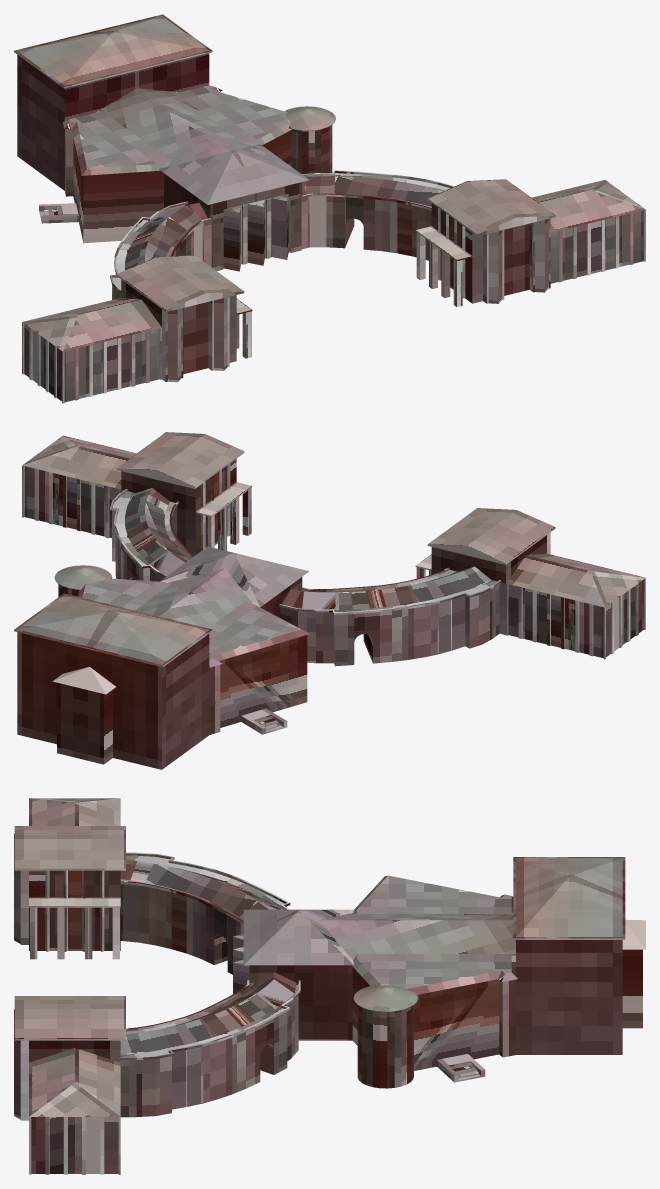
Rendered from palacepratsi_hc.glb.
3 views of the same model, one above another, from view 1: azimuth 30°, elevation 25°; view 2: azimuth 150°, elevation 25°; view 3: azimuth 270°, elevation 25° (orthographic). The views are drawn at different scales.
Visible parts, largest first — view 1: palacepratsi; view 2: palacepratsi; view 3: palacepratsi.
Boxes of the visible parts, <box> form: palacepratsi: <box>14,14,645,403</box>; palacepratsi: <box>14,432,645,769</box>; palacepratsi: <box>14,798,645,1174</box>.
Bounding box in the file's own units: 155 × 31.43 × 130.
5 materials, 5 textured.
